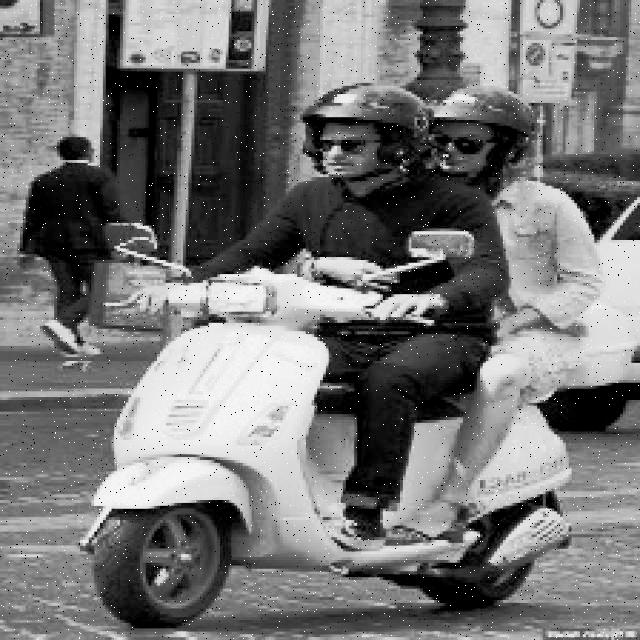Bike: (87, 269, 567, 623)
